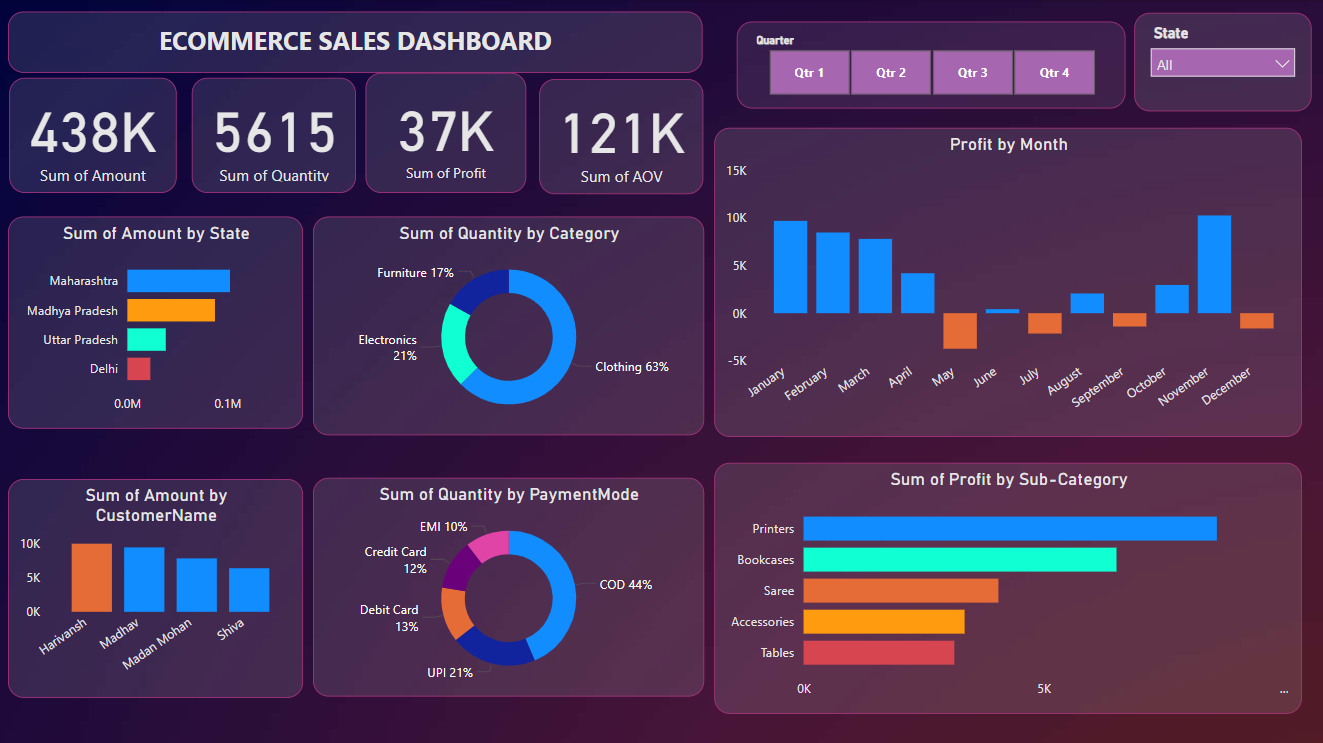

What the dashboard file says about the page in this screenshot:
{"tool":"powerbi","page":{"name":"Page 1","canvas":[1280,720],"ordinal":0},"visuals":[{"type":"textbox","box":[9.7,12.1,670.8,59.1],"z":0},{"type":"columnChart","title":"Profit by Month","fields":{"Y":["Sum(Details.Profit)"],"Category":["Orders.Order Date.Variation.Date Hierarchy.Month"]},"box":[691.2,123.8,567.5,298.8],"z":1000},{"type":"barChart","fields":{"Category":["Details.Sub-Category"],"Y":["Sum(Details.Profit)"]},"box":[691.2,447.5,567.5,242.5],"z":2000},{"type":"donutChart","fields":{"Category":["Details.Category"],"Y":["Sum(Details.Quantity)"]},"box":[303.8,210,377.5,211.2],"z":3000},{"type":"donutChart","fields":{"Y":["Sum(Details.Quantity)"],"Category":["Details.PaymentMode"]},"box":[303.8,462.5,377.5,211.2],"z":4000},{"type":"card","fields":{"Values":["Sum(Details.Amount)"]},"box":[11.2,76.2,161.2,111.2],"z":5000},{"type":"card","fields":{"Values":["Sum(Details.Quantity)"]},"box":[187.5,76.2,158.8,111.2],"z":6000},{"type":"card","fields":{"Values":["Sum(Details.Profit)"]},"box":[355,71.2,155,116.2],"z":7000},{"type":"card","fields":{"Values":["Sum(Details.AOV)"]},"box":[522.5,77.5,158.8,111.2],"z":8000},{"type":"barChart","fields":{"Category":["Orders.State"],"Y":["Sum(Details.Amount)"]},"box":[10,210,285,205],"z":9000},{"type":"columnChart","fields":{"Category":["Orders.CustomerName"],"Y":["Sum(Details.Amount)"]},"box":[10,463,285,211],"z":10000},{"type":"slicer","fields":{"Values":["Orders.Order Date.Variation.Date Hierarchy.Quarter"]},"box":[712.5,21.2,375,83.8],"z":11000},{"type":"slicer","fields":{"Values":["Orders.State"]},"box":[1096.2,13.8,171.2,95],"z":12000}]}

Visuals, with their boxes in screenshot pixels (x1, y1, x2, y2), scaled from the page's 1280x720 canvas onto the 1323x743 screenshot:
textbox: (x1=10, y1=12, x2=703, y2=73)
"Profit by Month" columnChart: (x1=714, y1=128, x2=1301, y2=436)
barChart - Details.Sub-Category x Sum(Details.Profit): (x1=714, y1=462, x2=1301, y2=712)
donutChart - Details.Category x Sum(Details.Quantity): (x1=314, y1=217, x2=704, y2=435)
donutChart - Sum(Details.Quantity) x Details.PaymentMode: (x1=314, y1=477, x2=704, y2=695)
card - Sum(Details.Amount): (x1=12, y1=79, x2=178, y2=193)
card - Sum(Details.Quantity): (x1=194, y1=79, x2=358, y2=193)
card - Sum(Details.Profit): (x1=367, y1=73, x2=527, y2=193)
card - Sum(Details.AOV): (x1=540, y1=80, x2=704, y2=195)
barChart - Orders.State x Sum(Details.Amount): (x1=10, y1=217, x2=305, y2=428)
columnChart - Orders.CustomerName x Sum(Details.Amount): (x1=10, y1=478, x2=305, y2=696)
slicer - Orders.Order Date.Variation.Date Hierarchy.Quarter: (x1=736, y1=22, x2=1124, y2=108)
slicer - Orders.State: (x1=1133, y1=14, x2=1310, y2=112)
